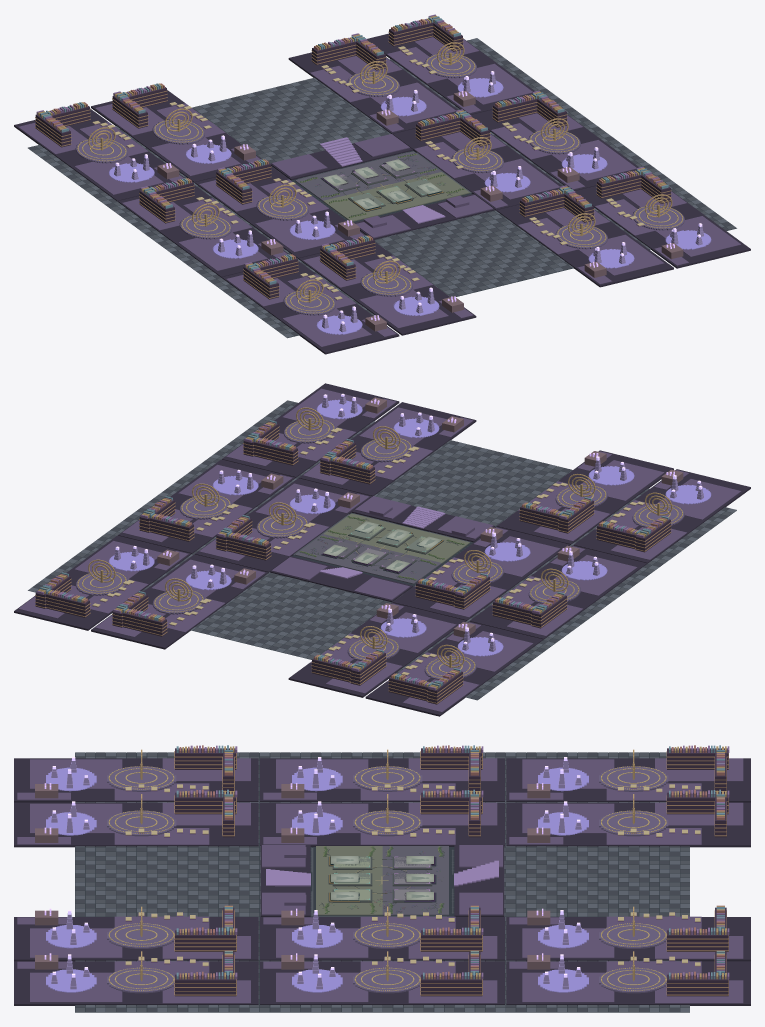
Rendered from arcane.glb.
3 renders of one model, top to bottom at view 1: azimuth 30°, elevation 25°; view 2: azimuth 150°, elevation 25°; view 3: azimuth 270°, elevation 25°, orthographic. The views are drawn at different scales.
Visible parts, largest first — view 1: 24_Continuous_Outer_Floor_rock3, 24_Continuous_Outer_Floor_rock2, 24_Continuous_Outer_Floor_rock, 24_Outer_Floor_Mortar, Decorated_Halves_With_Six_Grounded_Stone_Bases, Landscape_Terrain_Fields__West_1_1, Landscape_Terrain_Fields__West_0_1, Approach_Flanking_Terraces, Landscape_Terrain_Fields__West_0_-1, Landscape_Terrain_Fields__West_1_-1, Landscape_Terrain_Fields__West_1_0, Landscape_Terrain_Fields__East_0_1 (+50 smaller); view 2: 24_Continuous_Outer_Floor_rock2, 24_Continuous_Outer_Floor_rock, 24_Continuous_Outer_Floor_rock3, 24_Outer_Floor_Mortar, Decorated_Halves_With_Six_Grounded_Stone_Bases, Approach_Flanking_Terraces, Landscape_Terrain_Fields__West_0_-1, Landscape_Terrain_Fields, Landscape_Terrain_Fields__East_0_0, Landscape_Terrain_Fields__East_0_-1, Landscape_Terrain_Fields__West_1_-1, Landscape_Terrain_Fields__East_1_-1 (+56 smaller); view 3: 24_Continuous_Outer_Floor_rock2, 24_Continuous_Outer_Floor_rock3, 24_Continuous_Outer_Floor_rock, 24_Outer_Floor_Mortar, Decorated_Halves_With_Six_Grounded_Stone_Bases, Landscape_Terrain_Fields, Landscape_Terrain_Fields__West_0_-1, Landscape_Terrain_Fields__West_0_1, Landscape_Terrain_Fields__East_1_0, Landscape_Terrain_Fields__East_1_-1, Landscape_Terrain_Fields__East_1_1, Landscape_Terrain_Fields__West_1_0 (+81 smaller).
Part boxes in pixels (x1,y1,x2,y2): 24_Continuous_Outer_Floor_rock3: [36, 38, 727, 337]; 24_Continuous_Outer_Floor_rock2: [32, 40, 736, 334]; 24_Continuous_Outer_Floor_rock: [28, 41, 732, 335]; 24_Outer_Floor_Mortar: [28, 40, 736, 338]; Decorated_Halves_With_Six_Grounded_Stone_Bases: [295, 151, 469, 221]; Landscape_Terrain_Fields__West_1_1: [226, 274, 396, 346]; Landscape_Terrain_Fields__West_0_1: [303, 255, 472, 328]; Approach_Flanking_Terraces: [271, 134, 493, 238]; Landscape_Terrain_Fields__West_0_-1: [95, 103, 260, 175]; Landscape_Terrain_Fields__West_1_-1: [18, 122, 183, 194]; Landscape_Terrain_Fields__West_1_0: [122, 198, 287, 270]; Landscape_Terrain_Fields__East_0_1: [518, 208, 664, 284]; 24_Continuous_Outer_Floor_rock2: [35, 400, 732, 697]; 24_Continuous_Outer_Floor_rock: [32, 402, 729, 699]; 24_Continuous_Outer_Floor_rock3: [28, 405, 736, 694]; 24_Outer_Floor_Mortar: [28, 402, 736, 700]; Decorated_Halves_With_Six_Grounded_Stone_Bases: [295, 513, 469, 584]; Approach_Flanking_Terraces: [271, 496, 493, 600]; Landscape_Terrain_Fields__West_0_-1: [310, 603, 456, 693]; Landscape_Terrain_Fields: [414, 527, 560, 617]; Landscape_Terrain_Fields__East_0_0: [199, 483, 369, 561]; Landscape_Terrain_Fields__East_0_-1: [95, 559, 265, 637]; Landscape_Terrain_Fields__West_1_-1: [387, 622, 533, 712]; Landscape_Terrain_Fields__East_1_-1: [18, 541, 188, 618]; 24_Continuous_Outer_Floor_rock2: [75, 752, 689, 1011]; 24_Continuous_Outer_Floor_rock3: [75, 752, 689, 1011]; 24_Continuous_Outer_Floor_rock: [75, 752, 689, 1011]; 24_Outer_Floor_Mortar: [75, 752, 689, 1012]; Decorated_Halves_With_Six_Grounded_Stone_Bases: [316, 846, 448, 915]; Landscape_Terrain_Fields: [263, 802, 497, 844]; Landscape_Terrain_Fields__West_0_-1: [509, 802, 743, 844]; Landscape_Terrain_Fields__West_0_1: [17, 802, 250, 844]; Landscape_Terrain_Fields__East_1_0: [263, 961, 497, 1003]; Landscape_Terrain_Fields__East_1_-1: [509, 961, 743, 1003]; Landscape_Terrain_Fields__East_1_1: [17, 961, 250, 1003]; Landscape_Terrain_Fields__West_1_0: [263, 758, 497, 800].
Bounding box in the file's own units: 48 × 2.88 × 57.5.
32 materials, 1 textured.
